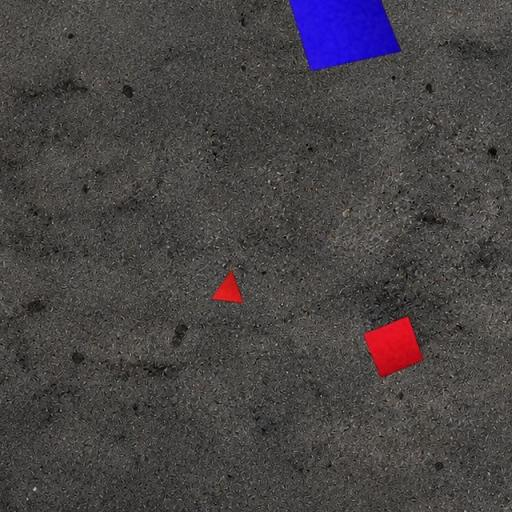BLUE_SQUARE: (284, 0, 402, 72)
RED_SQUARE: (362, 314, 424, 378)
